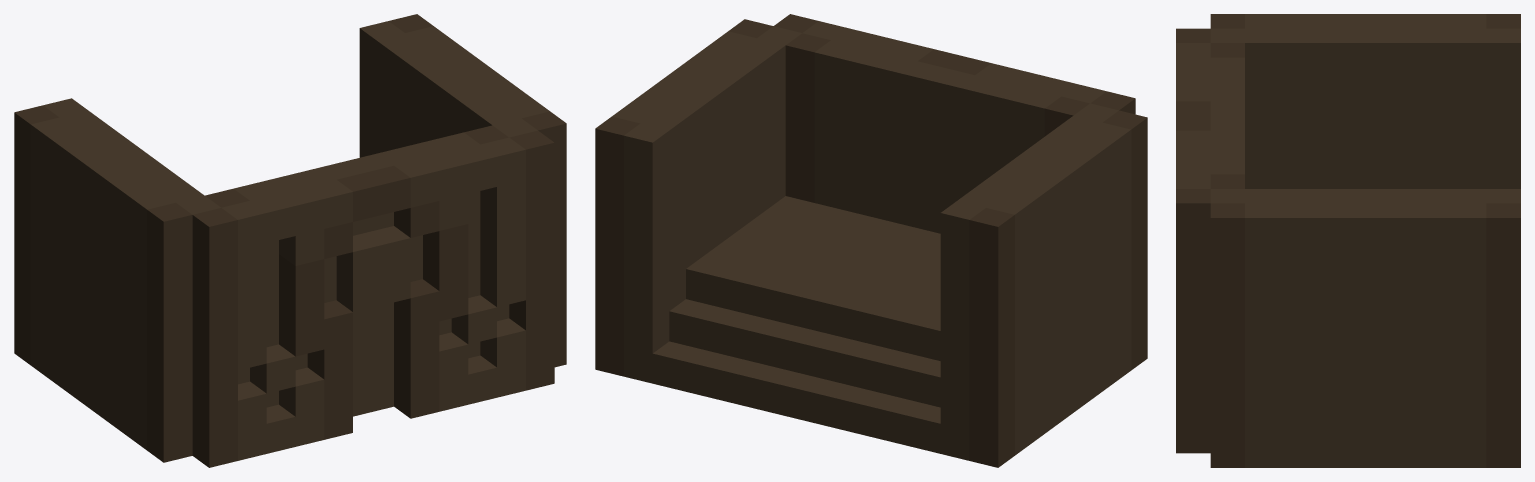
File: church-29-ch_pulpit2.obj
3 views of the same model, side by side, from view 1: azimuth 30°, elevation 25°; view 2: azimuth 150°, elevation 25°; view 3: azimuth 270°, elevation 25° (orthographic). The views are drawn at different scales.
Visible parts, largest first — view 1: ch_pulpit2; view 2: ch_pulpit2; view 3: ch_pulpit2.
Boxes of the visible parts, x1=… form: ch_pulpit2: x1=14, y1=14, x2=566, y2=467; ch_pulpit2: x1=595, y1=14, x2=1147, y2=467; ch_pulpit2: x1=1176, y1=14, x2=1520, y2=467.
Bounding box in the file's own units: 1.4 × 0.8 × 1.
Materials: 1 (1 with a texture image).
